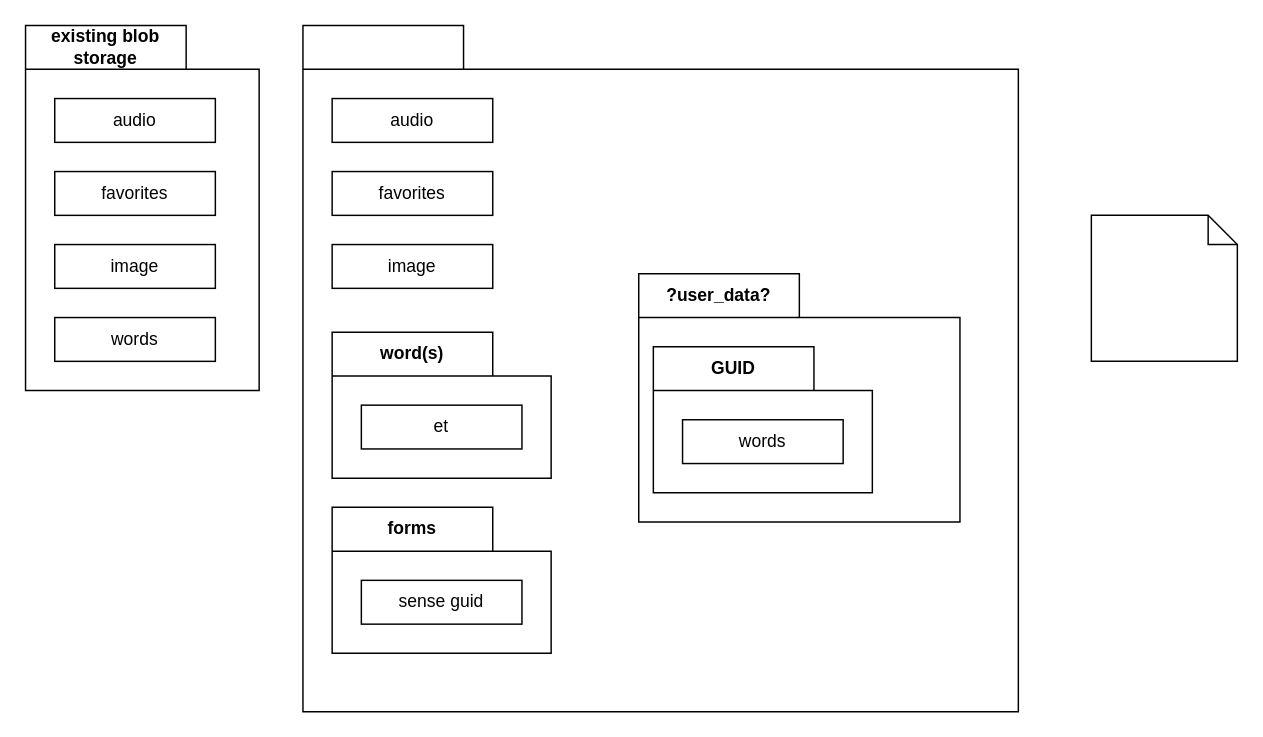
This 1263x737 diagram has some shape labels left out. Here are the shapes that lost their labels. From the top down, the box of each, then its label:
(1090, 214, 1237, 361): Note
(301, 24, 1018, 712): word/sense model
